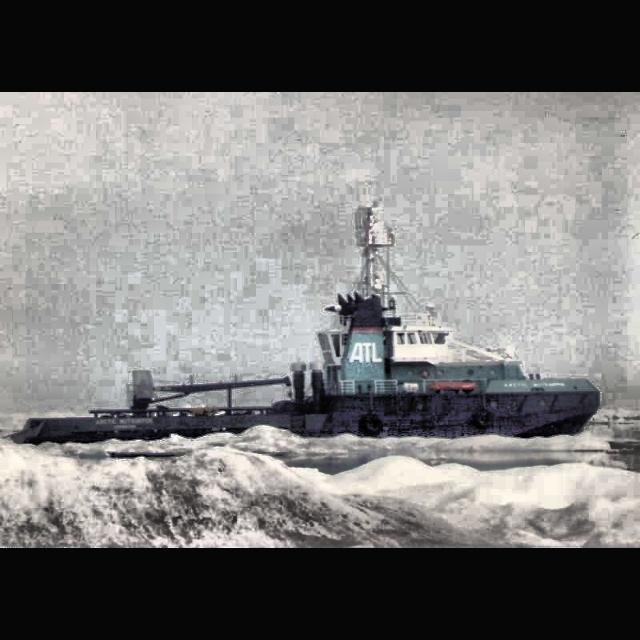anchor_handling_tug_supply: (8, 276, 602, 448)
